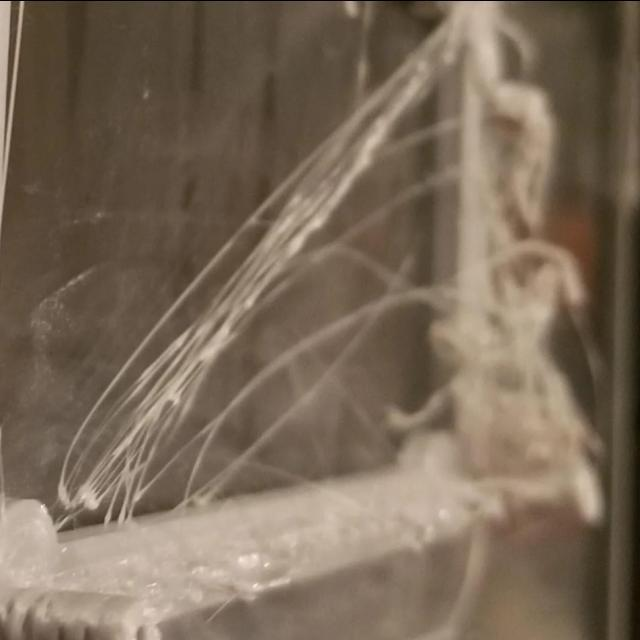stringing: (37, 8, 460, 527), (154, 226, 418, 505)
